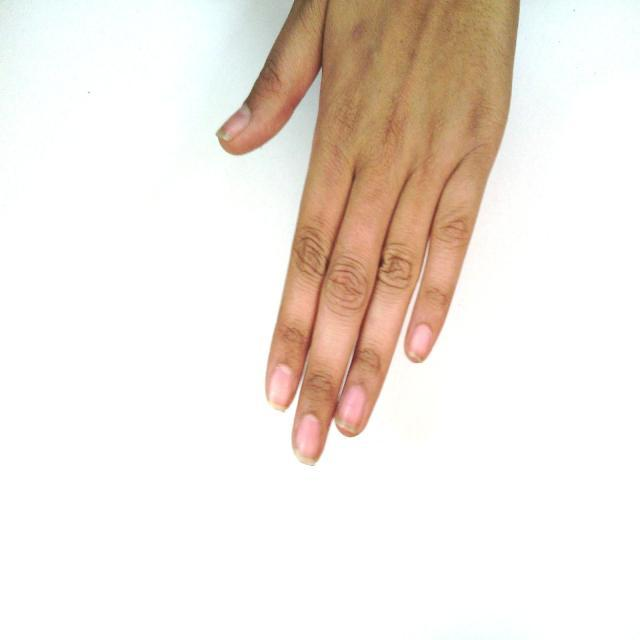Fingernail: (336, 385, 365, 431), (295, 414, 321, 465), (218, 106, 250, 143), (270, 365, 294, 409), (411, 325, 432, 358)
